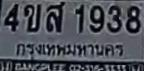1: (75, 4, 83, 31)
3: (106, 4, 121, 32)
4: (4, 3, 18, 30)
8: (125, 5, 139, 32)
9: (89, 4, 103, 32)
A02: (23, 3, 40, 31)
A40: (45, 1, 64, 31)
BKK: (13, 39, 126, 61)
